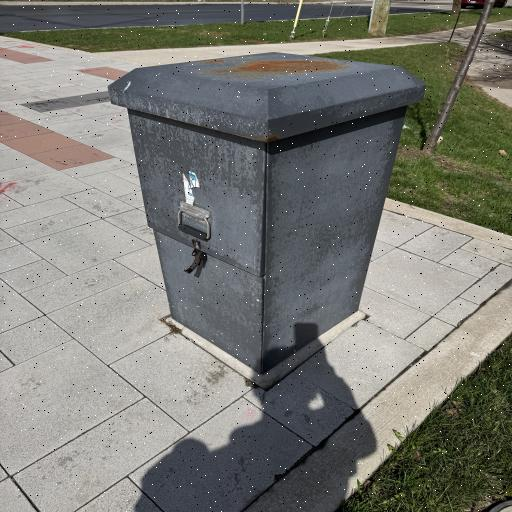Electrical Box: (108, 51, 426, 372)
